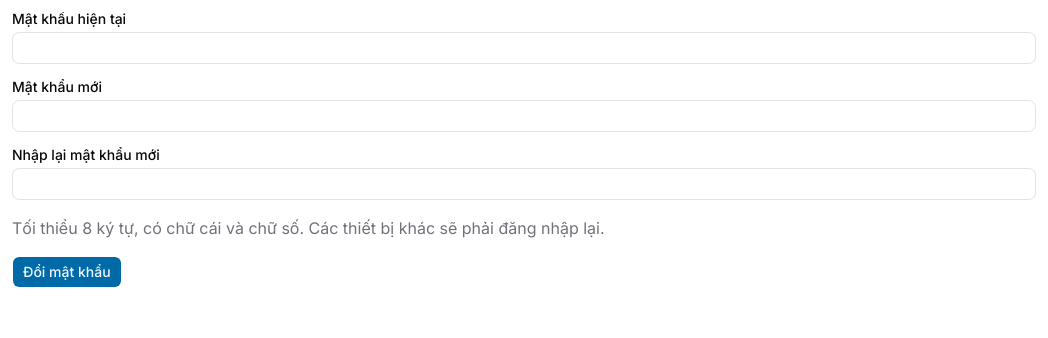
Scenario: PasswordForm › nhập lại không khớp → báo lỗi, không gọi API
Type "Matkhau123" into the password field labelled "Mật khẩu hiện tại" at (524, 48), box [12, 32, 1036, 64]
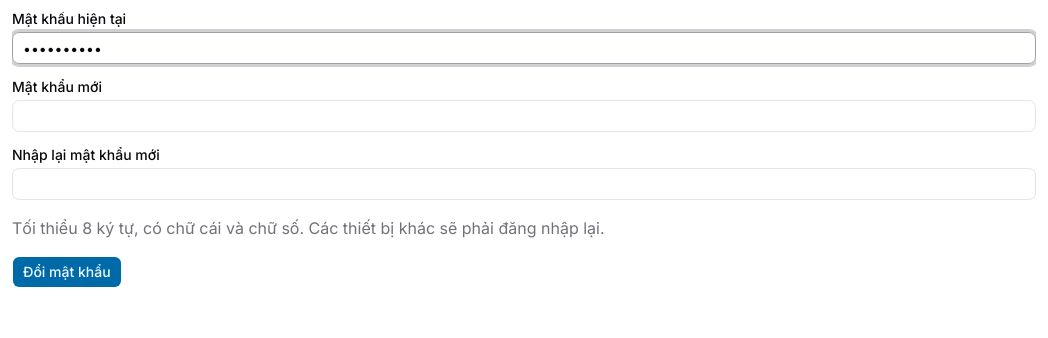
Type "Moimatkhau1" into the password field labelled "Mật khẩu mới" at (524, 116), box [12, 100, 1036, 132]
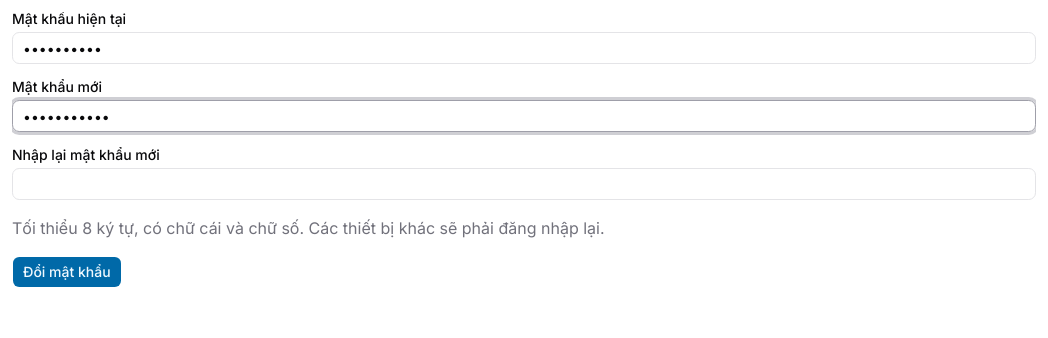
Type "Moimatkhau2" into the password field labelled "Nhập lại mật khẩu mới" at (524, 184), box [12, 168, 1036, 200]
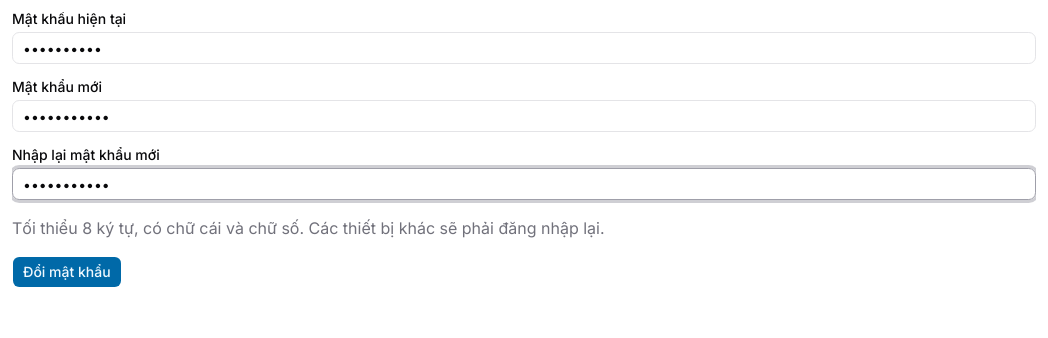
Click the button "Đổi mật khẩu" at (67, 272), box [12, 256, 122, 288]
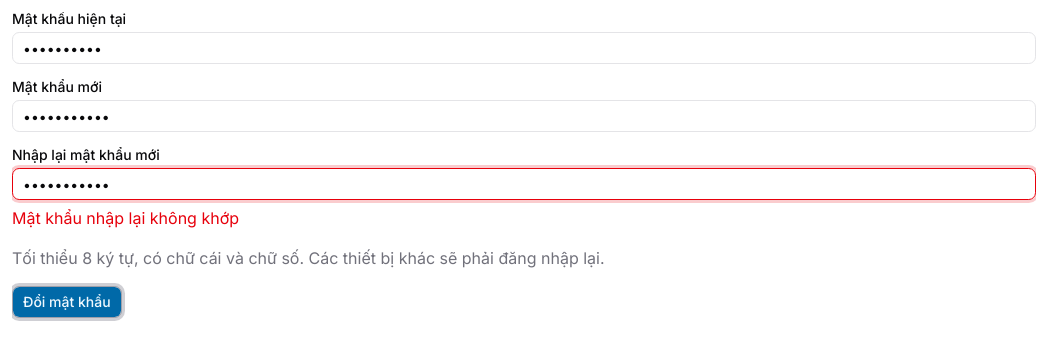
Expected: the text "Mật khẩu nhập lại không khớp" is shown, [12, 208, 239, 228]
